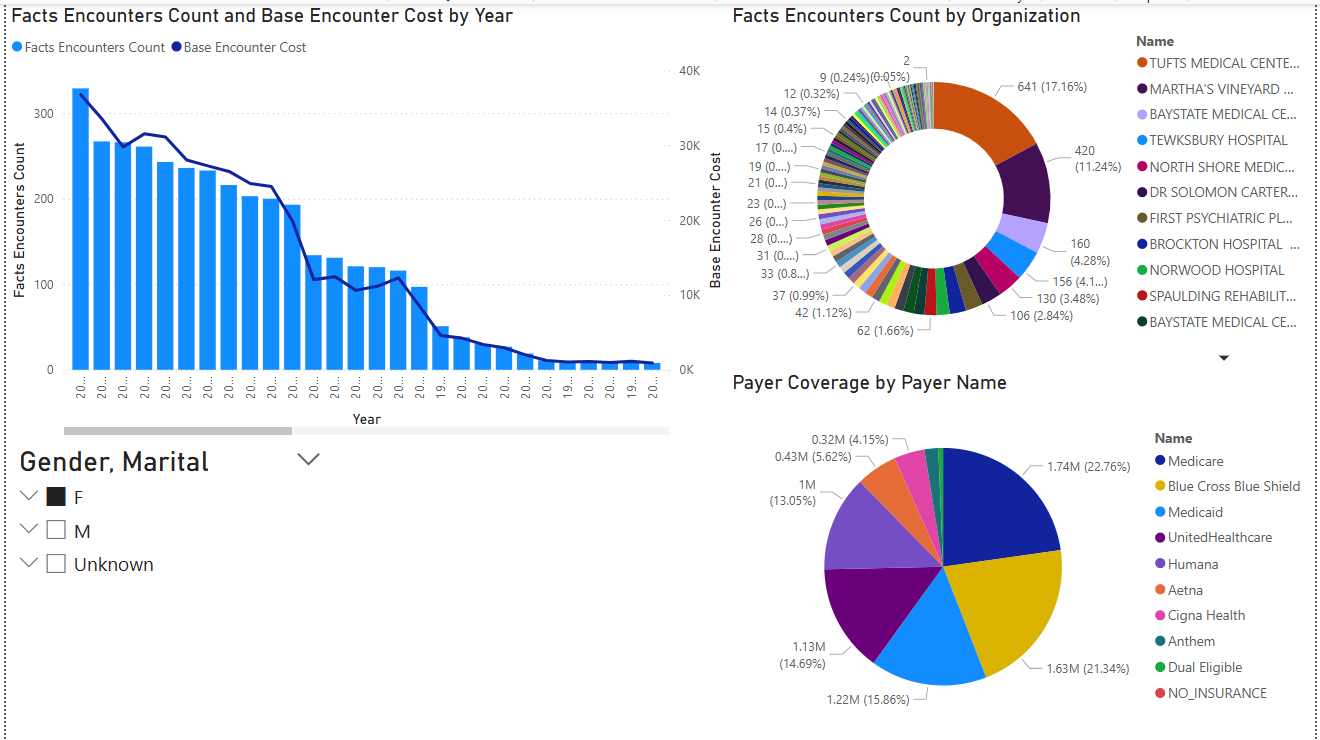

The page's visual inventory and layout, read from the dashboard file:
{"tool":"powerbi","page":{"name":"Report 2","canvas":[1280,720],"ordinal":1},"visuals":[{"type":"lineClusteredColumnComboChart","fields":{"Y":["Facts Encounters (Measures).Facts Encounters Count"],"Category":["Stop.Year"],"Y2":["Facts Encounters (Measures).Base Encounter Cost"]},"box":[0,0,705.6,426.8],"z":0},{"type":"slicer","fields":{"Values":["Dim Patients.Gender","Dim Patients.Marital"]},"box":[0,426.8,320.7,292.6],"z":1000},{"type":"donutChart","title":"Facts Encounters Count by Organization","fields":{"Y":["Facts Encounters (Measures).Facts Encounters Count"],"Category":["Dim Organizations.Name"]},"box":[705.6,0,574.7,359.5],"z":2000},{"type":"pieChart","title":"Payer Coverage by Payer Name","fields":{"Y":["Facts Encounters (Measures).Payer Coverage"],"Category":["Dim Payers.Name"]},"box":[705.6,359.5,574.7,360.7],"z":3000}]}

Visuals, with their boxes in screenshot pixels (x1, y1, x2, y2), scaled from the page's 1280x720 canvas onto the 1320x740 screenshot:
lineClusteredColumnComboChart - Facts Encounters (Measures).Facts Encounters Count x Stop.Year: detection(0, 0, 728, 439)
slicer - Dim Patients.Gender x Dim Patients.Marital: detection(0, 439, 331, 739)
"Facts Encounters Count by Organization" donutChart: detection(728, 0, 1319, 369)
"Payer Coverage by Payer Name" pieChart: detection(728, 369, 1319, 739)
